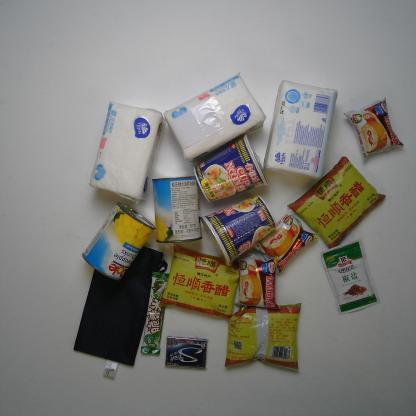Canned Food: (80, 201, 157, 283), (150, 175, 203, 244)
Chocolate: (140, 272, 169, 356)
Dessert: (242, 208, 319, 274), (342, 96, 405, 164), (234, 252, 281, 310)
Gum: (164, 335, 208, 370)
Instant Noodles: (199, 194, 278, 267), (192, 132, 269, 204)
Seasoner: (286, 155, 387, 250), (158, 242, 241, 320), (224, 302, 302, 372), (319, 237, 381, 317)
Stationery: (72, 245, 169, 381)
Tissue: (163, 71, 267, 163), (88, 101, 166, 205), (262, 79, 338, 180)
